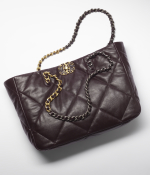channel: (15, 24, 135, 148), (41, 87, 62, 121), (57, 58, 83, 82)
